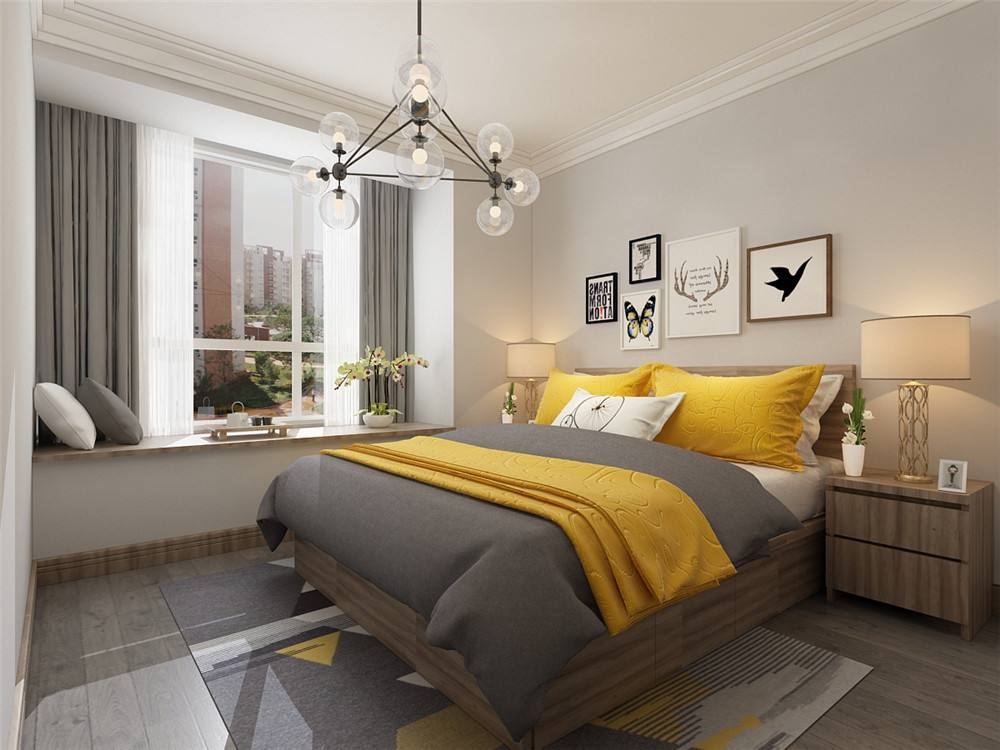床: (275, 420, 843, 703)
枕头: (546, 365, 832, 462), (23, 378, 147, 449)
灯: (297, 3, 547, 238), (861, 314, 974, 487), (504, 337, 561, 426)
